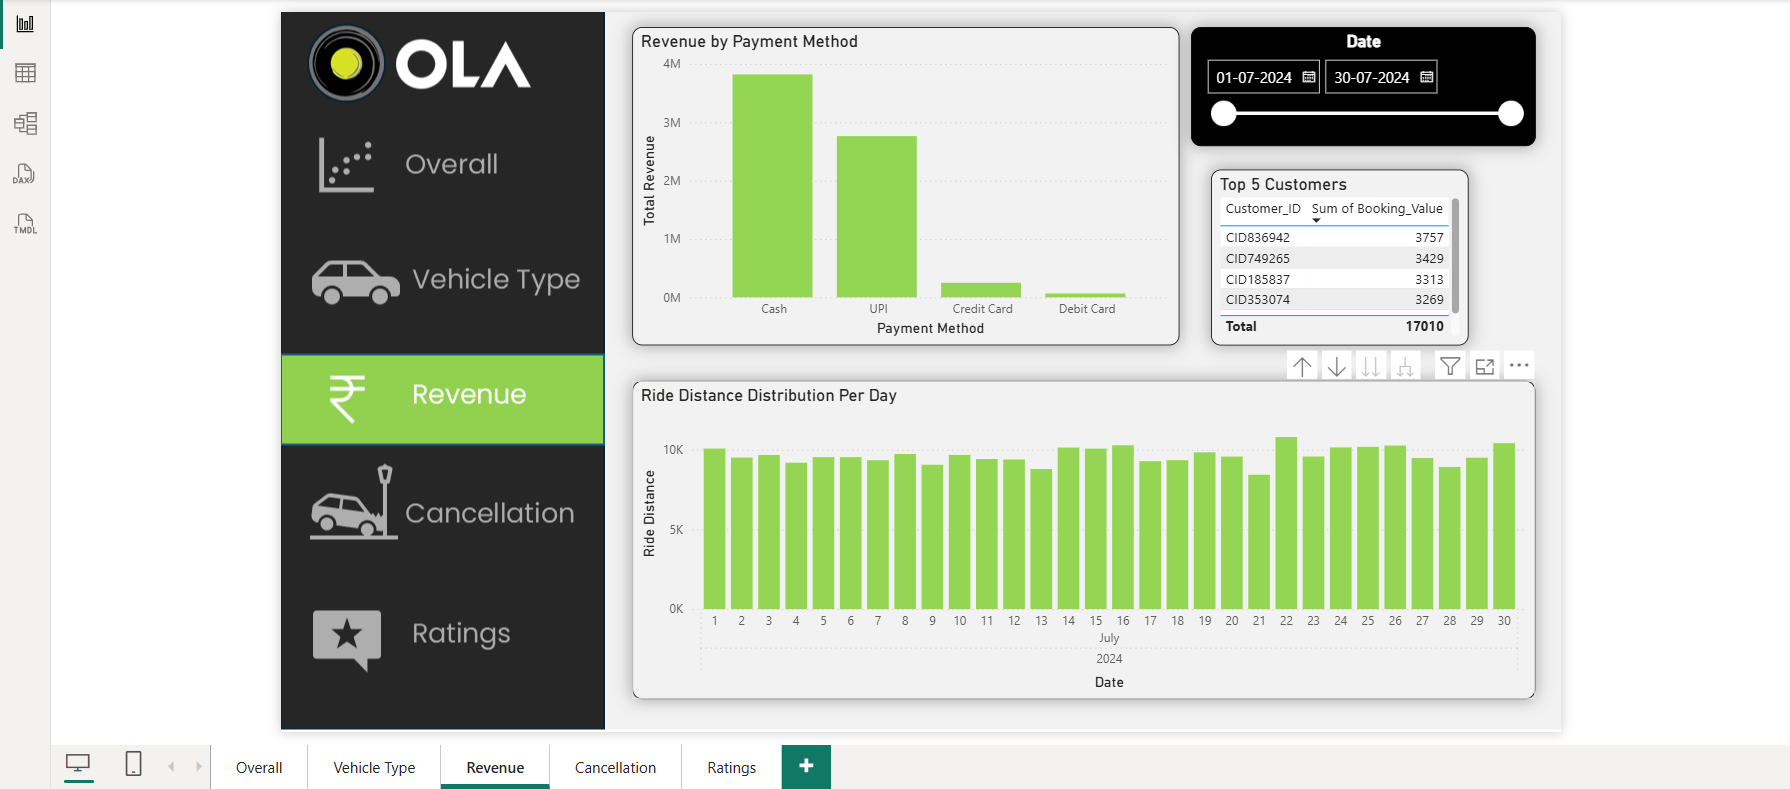

The page's visual inventory and layout, read from the dashboard file:
{"tool":"powerbi","page":{"name":"Revenue","canvas":[1280,720],"ordinal":2},"visuals":[{"type":"actionButton","box":[0,226.8,324.5,95.3],"z":0},{"type":"actionButton","box":[0,114.6,324.5,95.3],"z":1000},{"type":"actionButton","box":[0,451.2,324.5,95.3],"z":2000},{"type":"actionButton","box":[0,574.3,324.5,95.3],"z":3000},{"type":"columnChart","title":"Revenue by Payment Method","fields":{"Y":["Sum(July.Booking_Value)"],"Category":["July.Payment_Method"]},"box":[351.3,15.1,547.5,318.4],"z":4000},{"type":"tableEx","title":"Top 5 Customers","fields":{"Values":["July.Customer_ID","Sum(July.Booking_Value)"]},"box":[930.4,157.8,258,175.6],"z":5000},{"type":"columnChart","title":"Ride Distance Distribution Per Day","fields":{"Y":["Sum(July.Ride_Distance)"],"Category":["July.Date.Variation.Date Hierarchy.Year","July.Date.Variation.Date Hierarchy.Month","July.Date.Variation.Date Hierarchy.Day"]},"box":[351.3,369.1,902.9,318.4],"z":6000},{"type":"slicer","title":"Date","fields":{"Values":["July.Date"]},"box":[909.8,15.1,344.4,119.4],"z":7000}]}

Visuals, with their boxes on the page's 1280x720 design canvas (x1, y1, x2, y2). These are canvas units, not pixel positions in the 1790x789 screenshot, which may show the page scaled, cropped or inside an application window:
actionButton: 0:227:324:322
actionButton: 0:115:324:210
actionButton: 0:451:324:546
actionButton: 0:574:324:670
"Revenue by Payment Method" columnChart: 351:15:899:334
"Top 5 Customers" tableEx: 930:158:1188:333
"Ride Distance Distribution Per Day" columnChart: 351:369:1254:688
"Date" slicer: 910:15:1254:134
